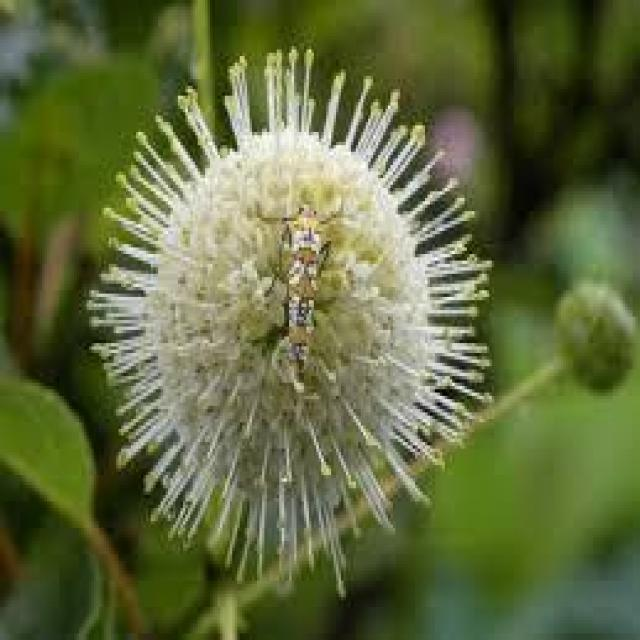organic waste: (92, 48, 490, 595)
